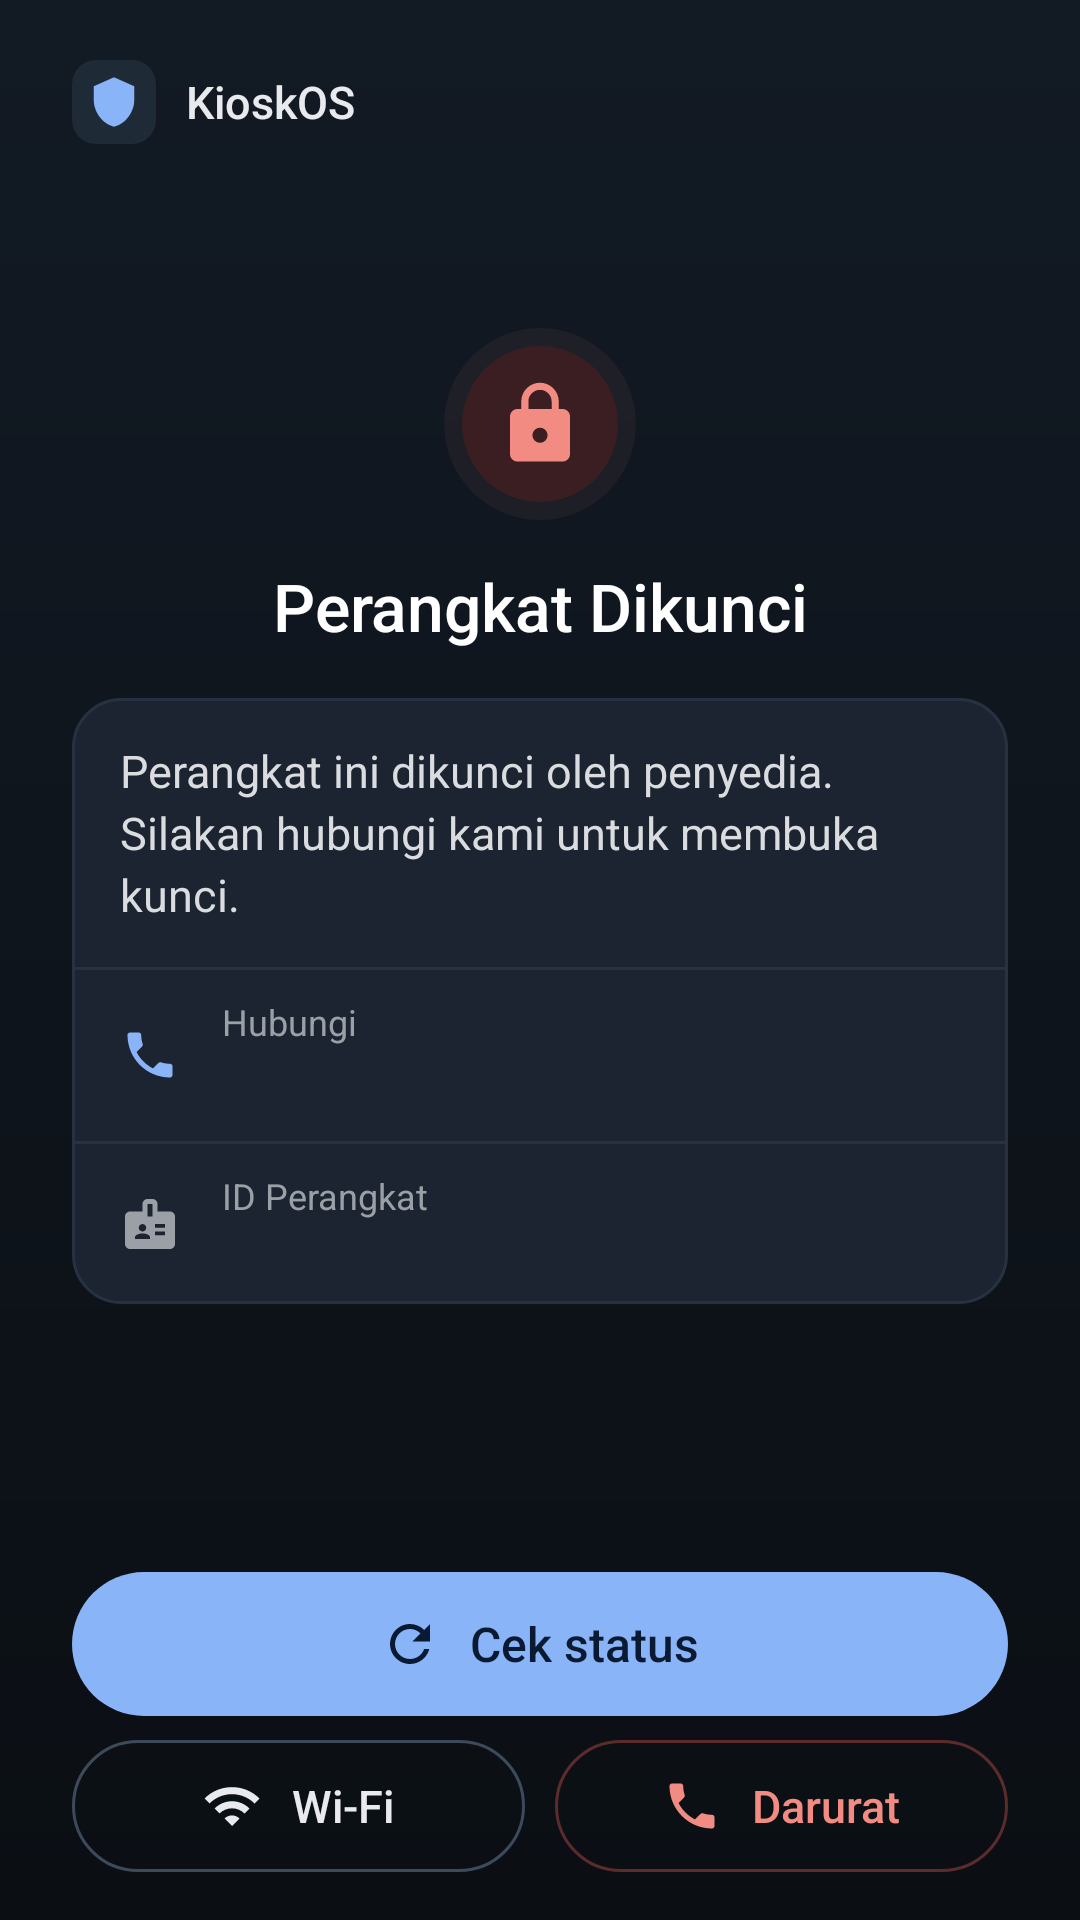

Icon click points for this 1080 × 1920 phone screenshot, format (x=x, y=y):
badge: (x=150, y=1224)
lock: (x=540, y=422)
phone: (x=150, y=1055), (x=692, y=1806)
refresh: (x=410, y=1644)
